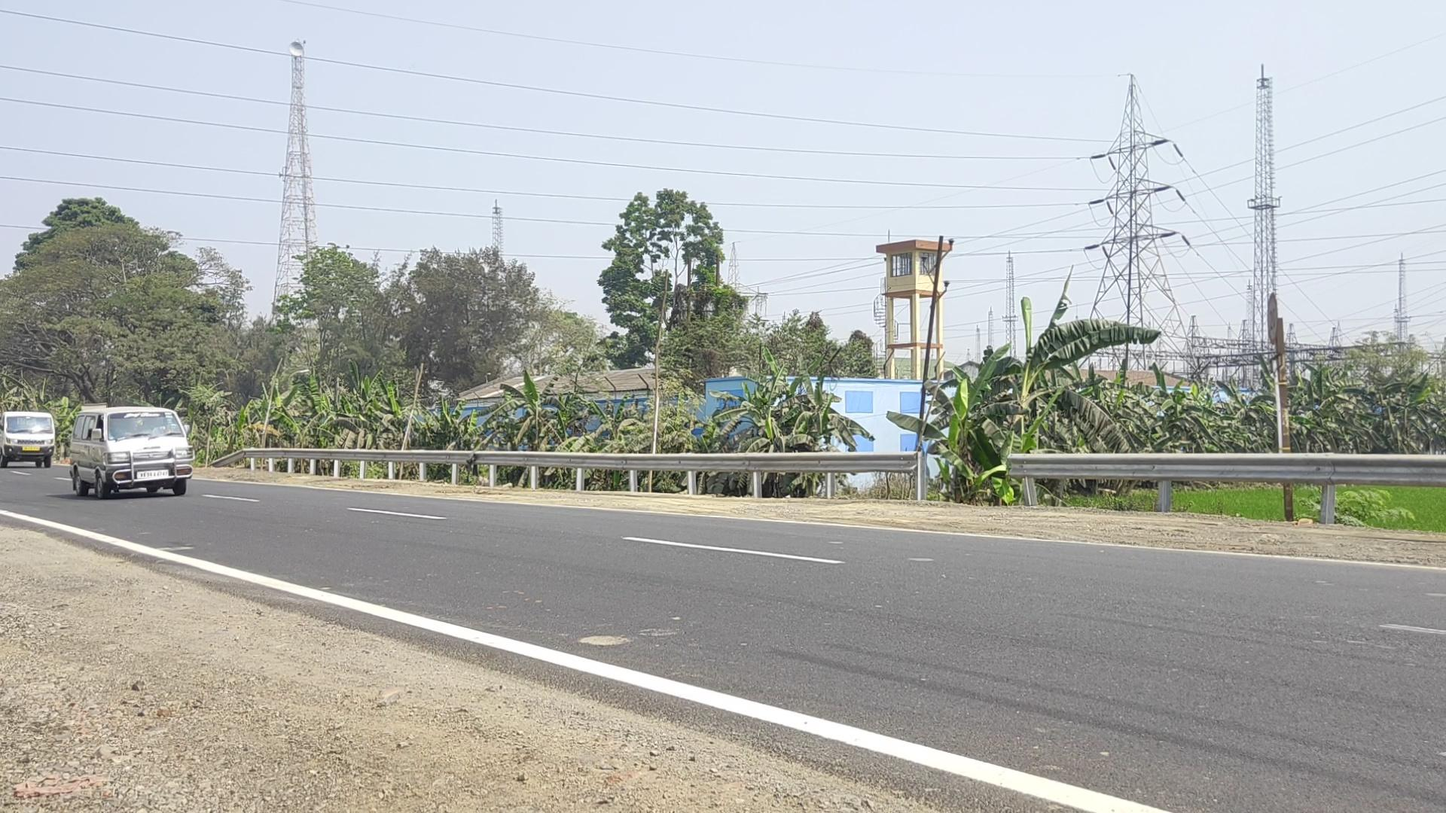van: (69, 406, 194, 501), (1, 410, 55, 470)
